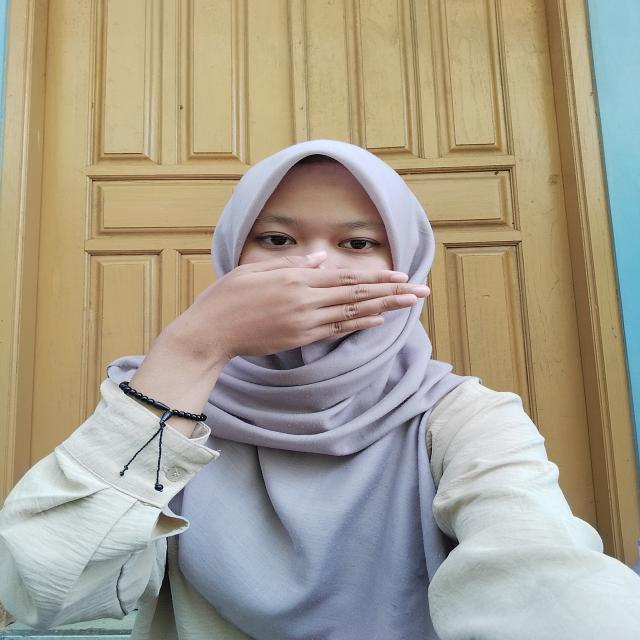buruk: (131, 249, 439, 397)
